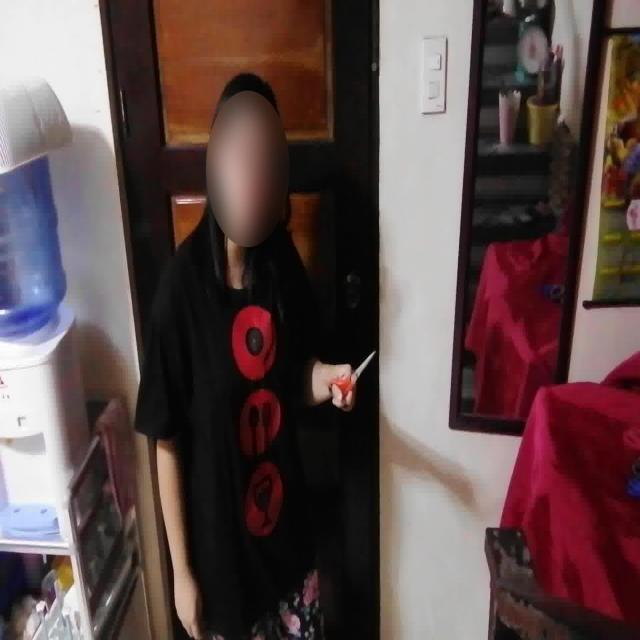scissor: (328, 350, 376, 410)
